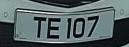0: (72, 16, 87, 40)
1: (64, 16, 74, 41)
7: (86, 14, 101, 38)
F: (45, 15, 63, 42)
T: (31, 15, 47, 42)
